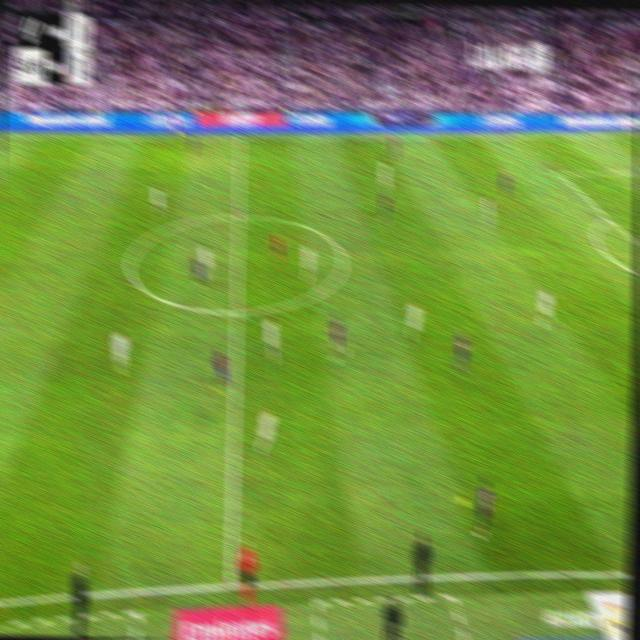bigarea_top_inner: (554, 164, 565, 179)
halfcircle_bottom: (228, 297, 244, 325)
halfcircle_top: (231, 203, 246, 227)
midline_bottom_intersection: (222, 567, 240, 593)
midline_top_intersection: (234, 129, 245, 146)
top_arc_area_intersection: (602, 208, 614, 225)
